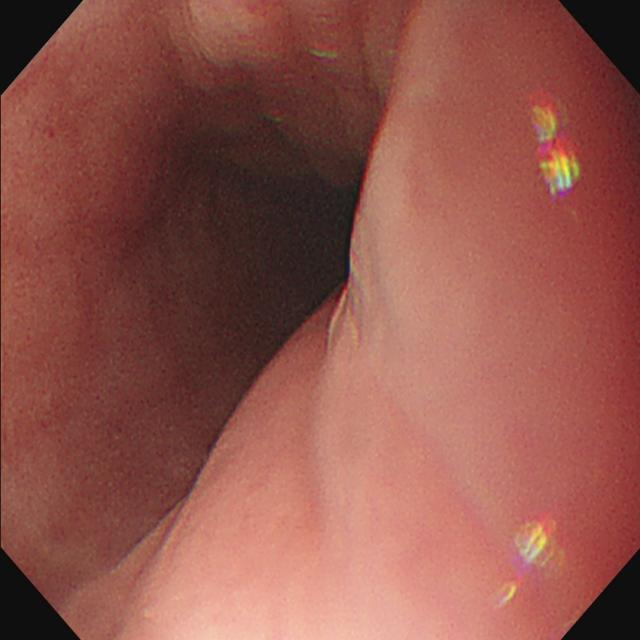E: (204, 154, 362, 333)
U: (531, 91, 579, 199), (514, 520, 559, 575)
